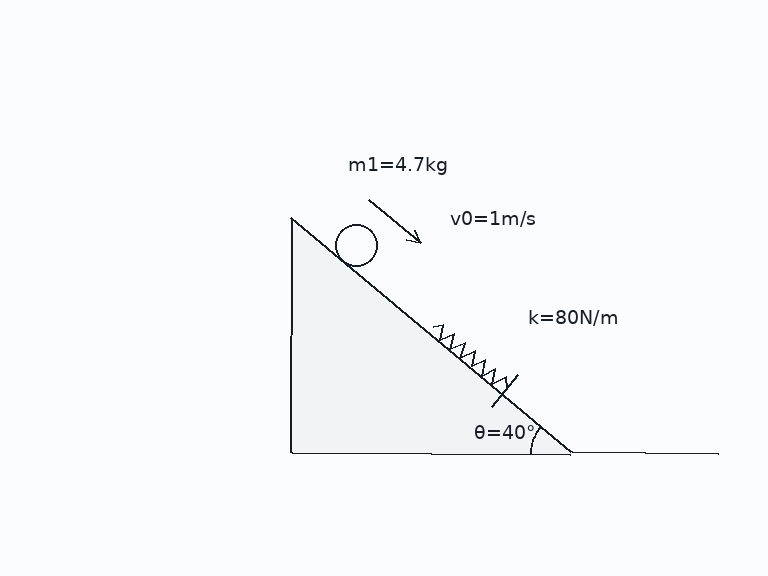ball: (333, 222, 379, 268)
ramp: (289, 216, 573, 455)
spring: (432, 323, 509, 389)
